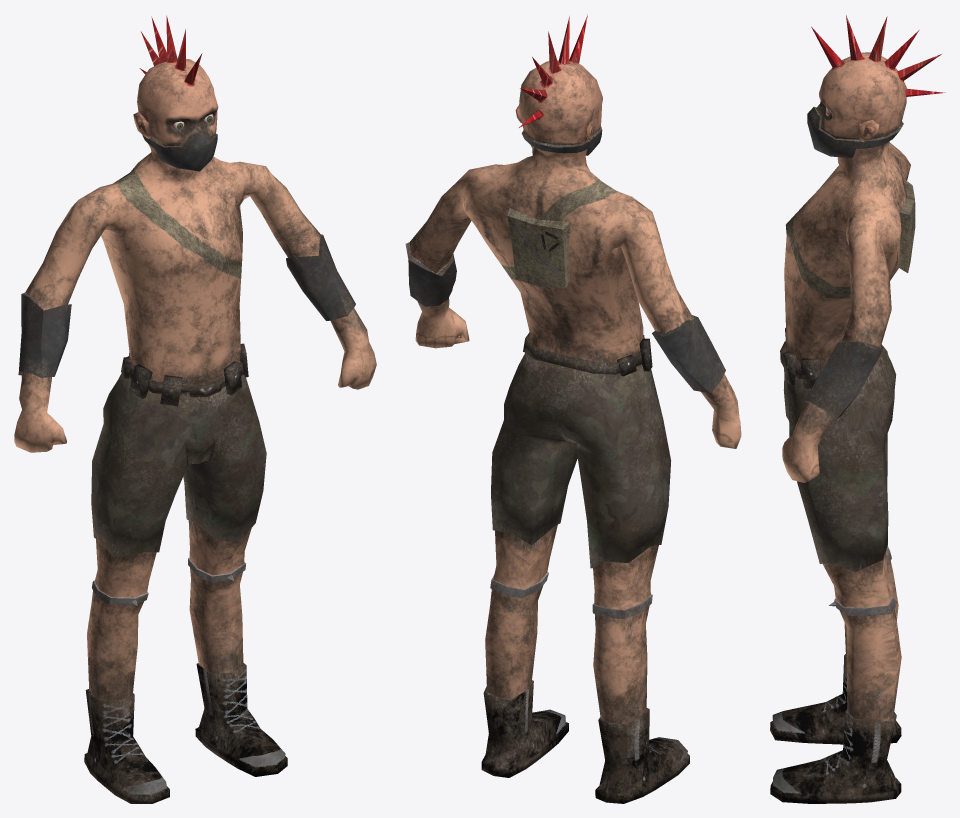
The model's file is Anim_idle_npc2.0049.obj.
3 views of the same model, side by side, from view 1: azimuth 30°, elevation 25°; view 2: azimuth 150°, elevation 25°; view 3: azimuth 270°, elevation 25° (orthographic). The views are drawn at different scales.
Parts seen in each view (by area): view 1: polySurface1; view 2: polySurface1; view 3: polySurface1.
Boxes of the visible parts, x1,y1,x2,y2 form: polySurface1: (14, 15, 376, 803); polySurface1: (405, 14, 741, 803); polySurface1: (770, 15, 945, 803).
Size of the model in its own units: 4.91 by 10.18 by 2.15.
2 materials, 2 textured.
